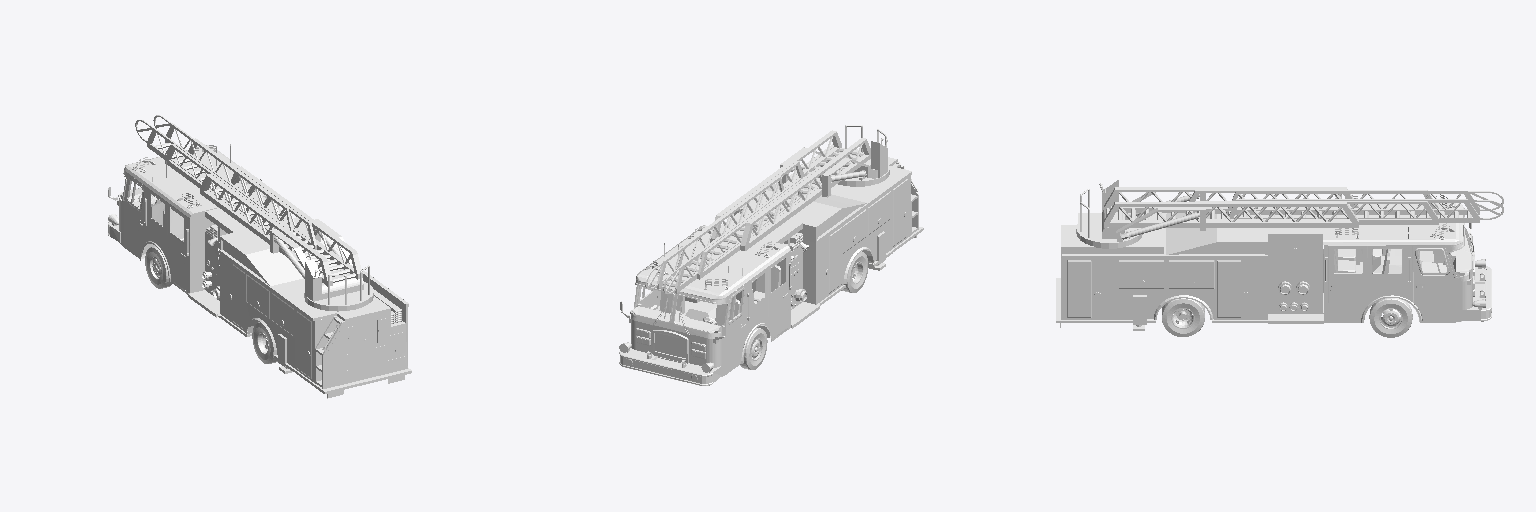
File: FireEngine.obj
3 views of the same model, side by side, from view 1: azimuth 30°, elevation 25°; view 2: azimuth 150°, elevation 25°; view 3: azimuth 270°, elevation 25° (orthographic).
Parts seen in each view (by area): view 1: mounts_mounts.001; view 2: mounts_mounts.001; view 3: mounts_mounts.001.
Part boxes in pixels (x1,y1,x2,y2): mounts_mounts.001: (108,115,411,398); mounts_mounts.001: (619,125,923,385); mounts_mounts.001: (1056,180,1503,337).
Bounding box in the file's own units: 2.92 × 3.23 × 10.67.